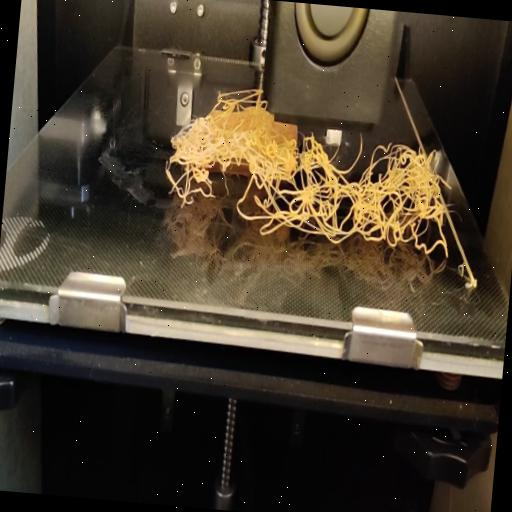spaghetti: (240, 127, 363, 255), (350, 143, 462, 278), (164, 118, 252, 208), (211, 82, 270, 132)
